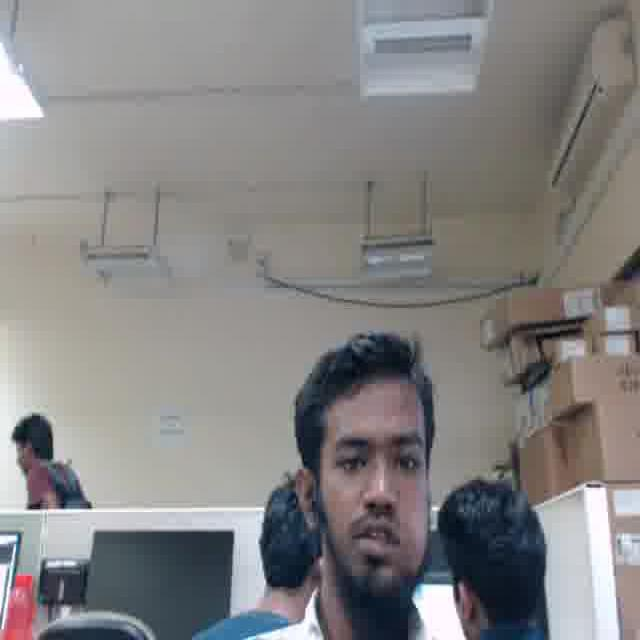Engaged: (320, 388, 430, 581)
